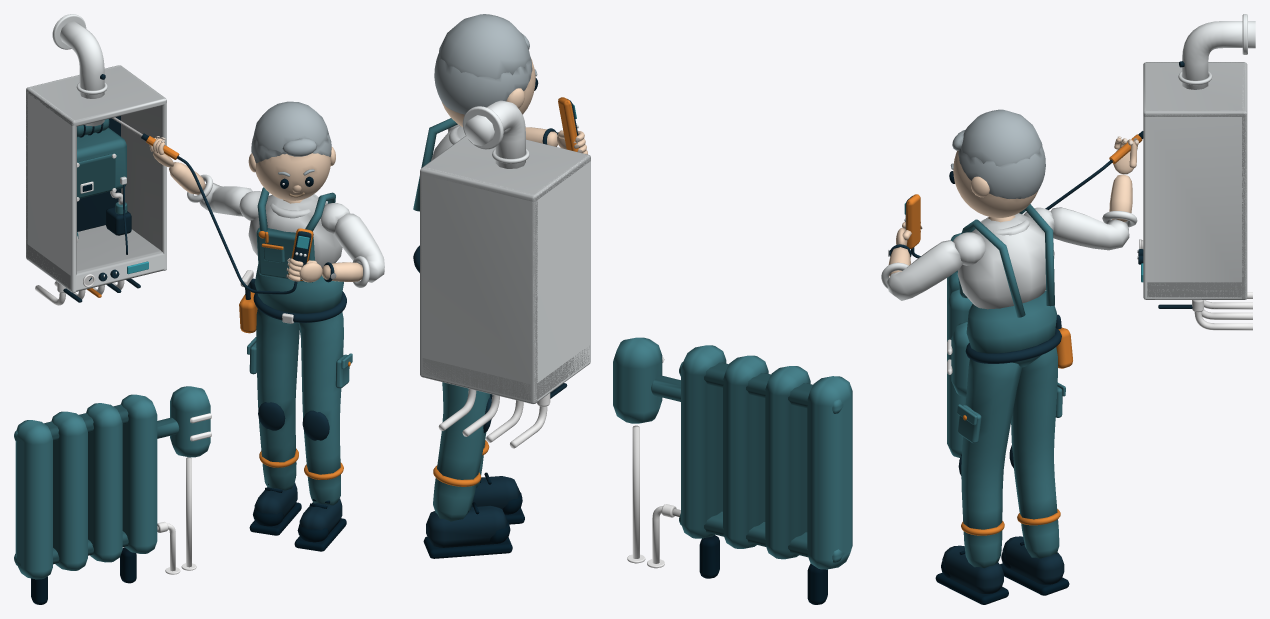
File: bild-3.glb
3 views of the same model, side by side, from view 1: azimuth 30°, elevation 25°; view 2: azimuth 150°, elevation 25°; view 3: azimuth 270°, elevation 25° (orthographic). The views are drawn at different scales.
Parts seen in each view (by area): view 1: Brennertuer, Abgasmuffe, FachkraftBauch, Abgasmessloch, FachkraftArm1, Fachkraft1Daumen, FachkraftBraue1, Fachkraft1Schnur0, Anschluss0, FachkraftKnopf1; view 2: Abgasmuffe, Brennertuer, FachkraftBraue1, FachkraftBauch, Abgasmessloch, Anschluss0, Fachkraft1Schnur0, Fachkraft1Daumen, FachkraftKnopf1; view 3: Abgasmuffe, FachkraftBauch, FachkraftArm1, FachkraftBraue1, Abgasmessloch, Fachkraft1Daumen, Brennertuer, FachkraftKnopf1, Fachkraft1Schnur0, Anschluss0.
Part boxes in pixels (x1,y1,x2,y2): Brennertuer: [14, 119, 210, 579]; Abgasmuffe: [26, 14, 306, 292]; FachkraftBauch: [247, 187, 352, 505]; Abgasmessloch: [63, 74, 346, 534]; FachkraftArm1: [187, 174, 384, 287]; Fachkraft1Daumen: [149, 137, 362, 282]; FachkraftBraue1: [251, 101, 331, 176]; Fachkraft1Schnur0: [31, 184, 346, 604]; Anschluss0: [35, 117, 196, 574]; FachkraftKnopf1: [87, 136, 350, 479]; Abgasmuffe: [420, 100, 590, 404]; Brennertuer: [613, 337, 852, 569]; FachkraftBraue1: [434, 14, 537, 114]; FachkraftBauch: [413, 118, 490, 521]; Abgasmessloch: [413, 99, 579, 547]; Anschluss0: [438, 388, 680, 568]; Fachkraft1Schnur0: [423, 472, 827, 604]; Fachkraft1Daumen: [442, 57, 587, 154]; FachkraftKnopf1: [433, 97, 578, 486]; Abgasmuffe: [904, 14, 1255, 299]; FachkraftBauch: [957, 204, 1065, 568]; FachkraftArm1: [881, 207, 1137, 309]; FachkraftBraue1: [950, 109, 1045, 198]; Abgasmessloch: [889, 61, 1192, 593]; Fachkraft1Daumen: [888, 138, 1138, 276]; Brennertuer: [947, 233, 972, 457]; FachkraftKnopf1: [906, 134, 1142, 535]; Fachkraft1Schnur0: [935, 541, 1069, 604]; Anschluss0: [1139, 239, 1252, 330].
Bounding box in the file's own units: 1.55 × 2.05 × 1.36.
